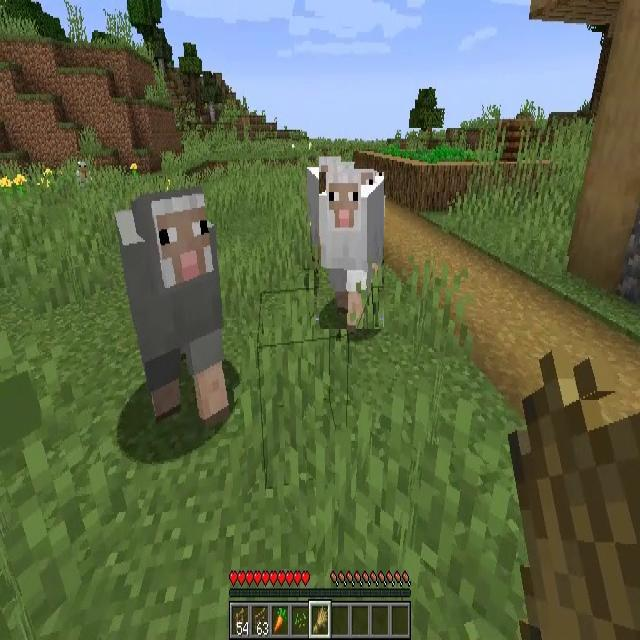duck: (73, 162, 88, 188)
sheep: (118, 191, 224, 421), (319, 172, 384, 329), (306, 159, 354, 254)
